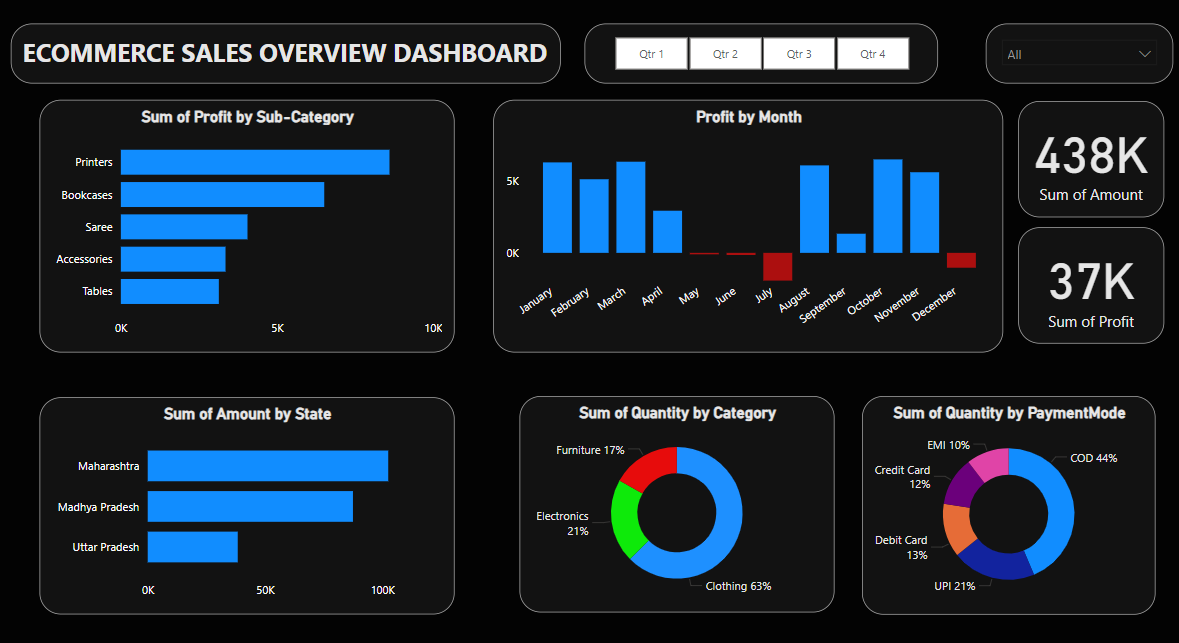

The dashboard page shown, as its layout file describes it:
{"tool":"powerbi","page":{"name":"Page 1","canvas":[1280,720],"ordinal":0},"visuals":[{"type":"columnChart","title":"Profit by Month","fields":{"Y":["Sum(Details.Profit)"],"Category":["Orders.Order Date.Variation.Date Hierarchy.Month"]},"box":[535.6,112,550.4,272.5],"z":0},{"type":"barChart","fields":{"Y":["Sum(Details.Profit)"],"Category":["Details.Sub-Category"]},"box":[45.9,112,447.9,272.5],"z":1000},{"type":"textbox","box":[14.8,29.7,593.6,64.8],"z":2000},{"type":"barChart","fields":{"Category":["Orders.State"],"Y":["Sum(Details.Amount)"]},"box":[45.9,433.1,447.9,234.7],"z":3000},{"type":"donutChart","fields":{"Category":["Details.Category"],"Y":["Sum(Details.Quantity)"]},"box":[563.9,431.7,340,233.4],"z":4000},{"type":"donutChart","fields":{"Category":["Details.PaymentMode"],"Y":["Sum(Details.Quantity)"]},"box":[933.6,431.7,317,236.1],"z":5000},{"type":"slicer","fields":{"Values":["Orders.Order Date.Variation.Date Hierarchy.Quarter"]},"box":[634.1,29.7,381.8,64.8],"z":5001},{"type":"slicer","fields":{"Values":["Orders.State"]},"box":[1067.1,29.7,202.4,64.8],"z":5002},{"type":"card","fields":{"Values":["Sum(Details.Amount)"]},"box":[1102.2,113.3,157.8,125.5],"z":5003},{"type":"card","fields":{"Values":["Sum(Details.Profit)"]},"box":[1102.2,249.6,157.8,125.5],"z":5004}]}

Visuals, with their boxes on the page's 1280x720 design canvas (x1, y1, x2, y2). These are canvas units, not pixel positions in the 1179x643 screenshot, which may show the page scaled, cropped or inside an application window:
"Profit by Month" columnChart: 536, 112, 1086, 384
barChart - Sum(Details.Profit) x Details.Sub-Category: 46, 112, 494, 384
textbox: 15, 30, 608, 94
barChart - Orders.State x Sum(Details.Amount): 46, 433, 494, 668
donutChart - Details.Category x Sum(Details.Quantity): 564, 432, 904, 665
donutChart - Details.PaymentMode x Sum(Details.Quantity): 934, 432, 1251, 668
slicer - Orders.Order Date.Variation.Date Hierarchy.Quarter: 634, 30, 1016, 94
slicer - Orders.State: 1067, 30, 1270, 94
card - Sum(Details.Amount): 1102, 113, 1260, 239
card - Sum(Details.Profit): 1102, 250, 1260, 375
